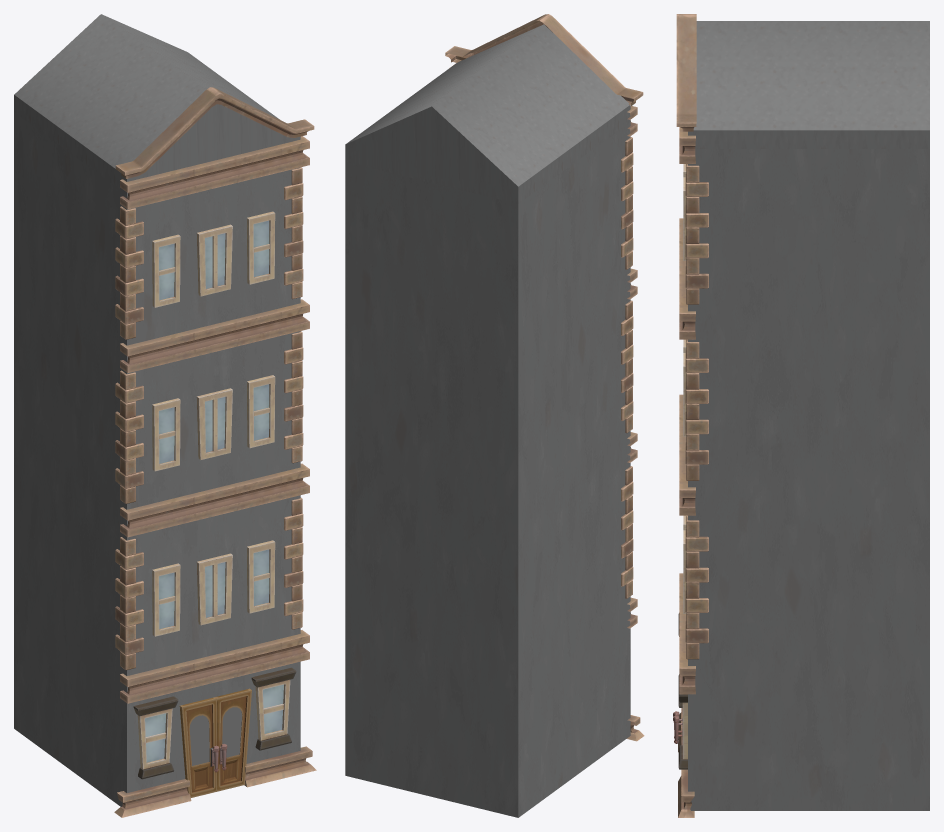
The model's file is Ev_Tallbuilding_1_ad.fbx.
The picture shows the model from 3 angles, left to right: view 1: azimuth 30°, elevation 25°; view 2: azimuth 150°, elevation 25°; view 3: azimuth 270°, elevation 25°; orthographic projection. The views are drawn at different scales.
Visible parts, largest first — view 1: Object051, Object049, Object050, Object047, Object052, Object048, P_Frame_063, P_Frame_061, P_Frame_064, P_Frame_065, P_Frameupper_009, P_Frame_062 (+17 smaller); view 2: Object049, Object051, Object050, Object052, Object047, P_Frameupper_009, Box858, Box863, Box851; view 3: Object049, Object051, Object050, Object052, Object047, Box855, Box867, Box862, P_Frameupper_009, P_Frame_061, P_Frame_063, P_Frame_064 (+3 smaller).
Part boxes in pixels (<box>): Object051: <box>14,441,300,686</box>; Object049: <box>14,112,300,360</box>; Object050: <box>14,278,300,523</box>; Object047: <box>14,14,300,194</box>; Object052: <box>14,604,300,806</box>; Object048: <box>179,688,251,797</box>; P_Frame_063: <box>120,463,309,537</box>; P_Frame_061: <box>120,630,309,703</box>; P_Frame_064: <box>120,299,309,372</box>; P_Frame_065: <box>120,136,309,209</box>; P_Frameupper_009: <box>115,87,314,178</box>; P_Frame_062: <box>114,746,316,817</box>; Object049: <box>345,122,630,368</box>; Object051: <box>345,449,630,693</box>; Object050: <box>345,287,630,531</box>; Object052: <box>345,612,630,817</box>; Object047: <box>345,24,630,203</box>; P_Frameupper_009: <box>445,14,643,106</box>; Box858: <box>621,300,633,433</box>; Box863: <box>621,137,633,269</box>; Box851: <box>621,466,633,598</box>; Object049: <box>688,149,929,326</box>; Object051: <box>688,502,929,677</box>; Object050: <box>688,327,929,502</box>; Object052: <box>688,677,929,810</box>; Object047: <box>688,21,929,148</box>; Box855: <box>685,516,708,659</box>; Box867: <box>685,164,708,304</box>; Box862: <box>685,339,708,480</box>; P_Frameupper_009: <box>676,14,696,131</box>; P_Frame_061: <box>679,573,695,694</box>; P_Frame_063: <box>679,394,695,515</box>; P_Frame_064: <box>679,218,695,339</box>.
Size of the model in its own units: 28.95 by 99.46 by 30.78.
